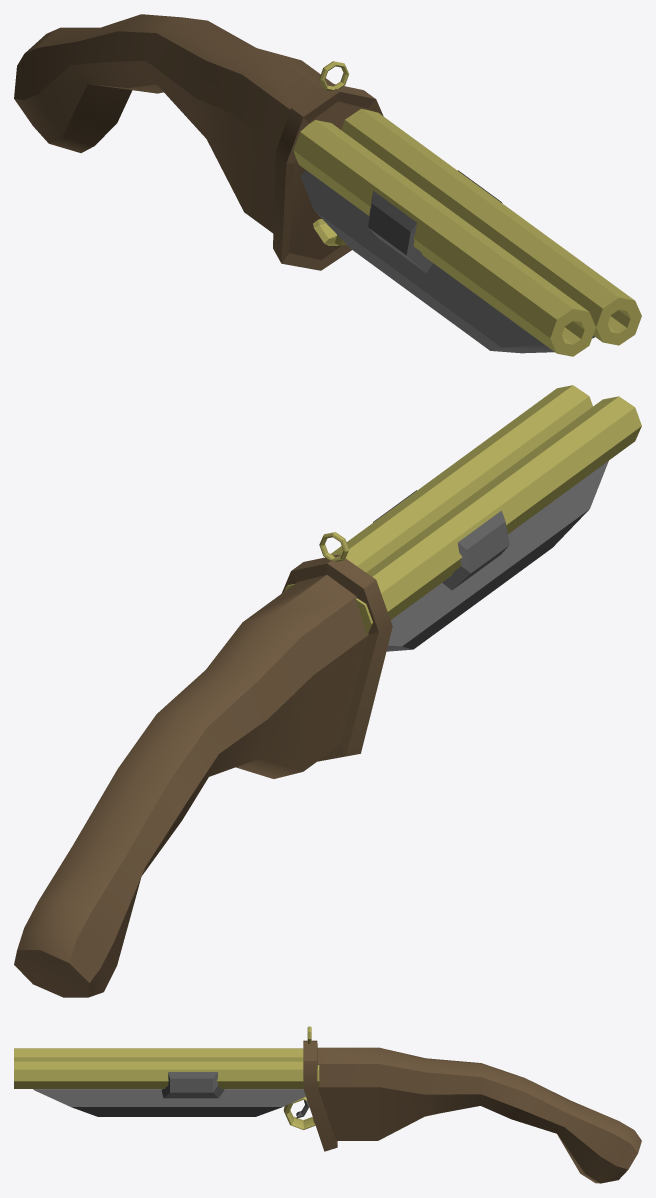
The model's file is holyShotgun.fbx.
3 renders of one model, top to bottom at view 1: azimuth 30°, elevation 25°; view 2: azimuth 150°, elevation 25°; view 3: azimuth 270°, elevation 25°, orthographic. The views are drawn at different scales.
Visible parts, largest first — view 1: pCylinder4, pCylinder5, pCylinder3; view 2: pCylinder4, pCylinder5, pCylinder3; view 3: pCylinder4, pCylinder5, pCylinder3, pTorus1.
Boxes of the visible parts, x1,y1,x2,y2 form: pCylinder4: (14,14,383,270); pCylinder5: (293,109,641,356); pCylinder3: (300,170,594,353); pCylinder4: (14,554,392,997); pCylinder5: (284,385,641,633); pCylinder3: (373,461,608,651); pCylinder4: (303,1040,641,1183); pCylinder5: (14,1048,319,1088); pCylinder3: (33,1072,305,1116); pTorus1: (283,1096,315,1129).
Bounding box in the file's own units: 1.16 × 2.89 × 10.51.
